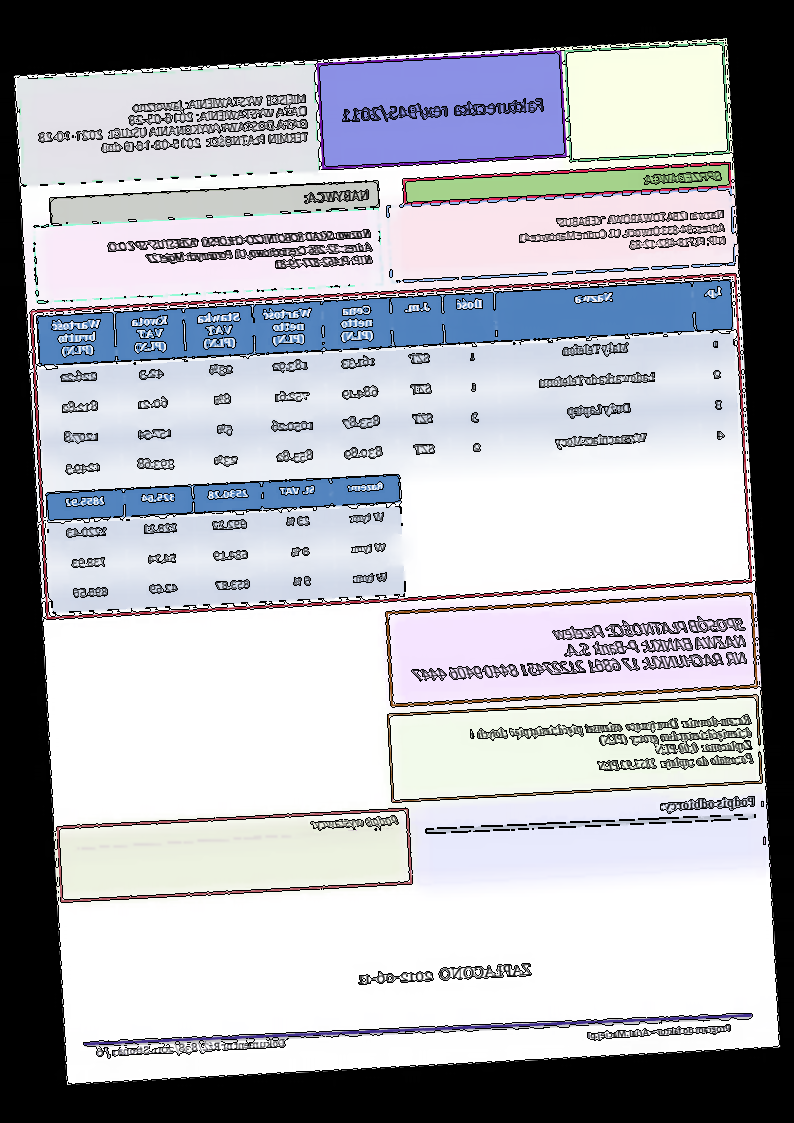Table: (36, 278, 742, 490), (45, 473, 407, 615)
TextBox: (410, 615, 749, 686), (468, 712, 756, 781), (35, 91, 311, 160), (106, 226, 376, 281), (516, 206, 729, 257), (341, 94, 549, 128), (94, 1035, 288, 1063), (356, 961, 536, 988), (586, 1021, 734, 1041), (657, 794, 758, 815), (311, 812, 401, 833), (641, 167, 725, 188), (303, 186, 372, 206)
